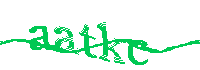a: (54, 26, 74, 54), (29, 26, 50, 50)
c: (128, 39, 147, 66)
k: (97, 22, 124, 64)
t: (79, 25, 98, 59)
